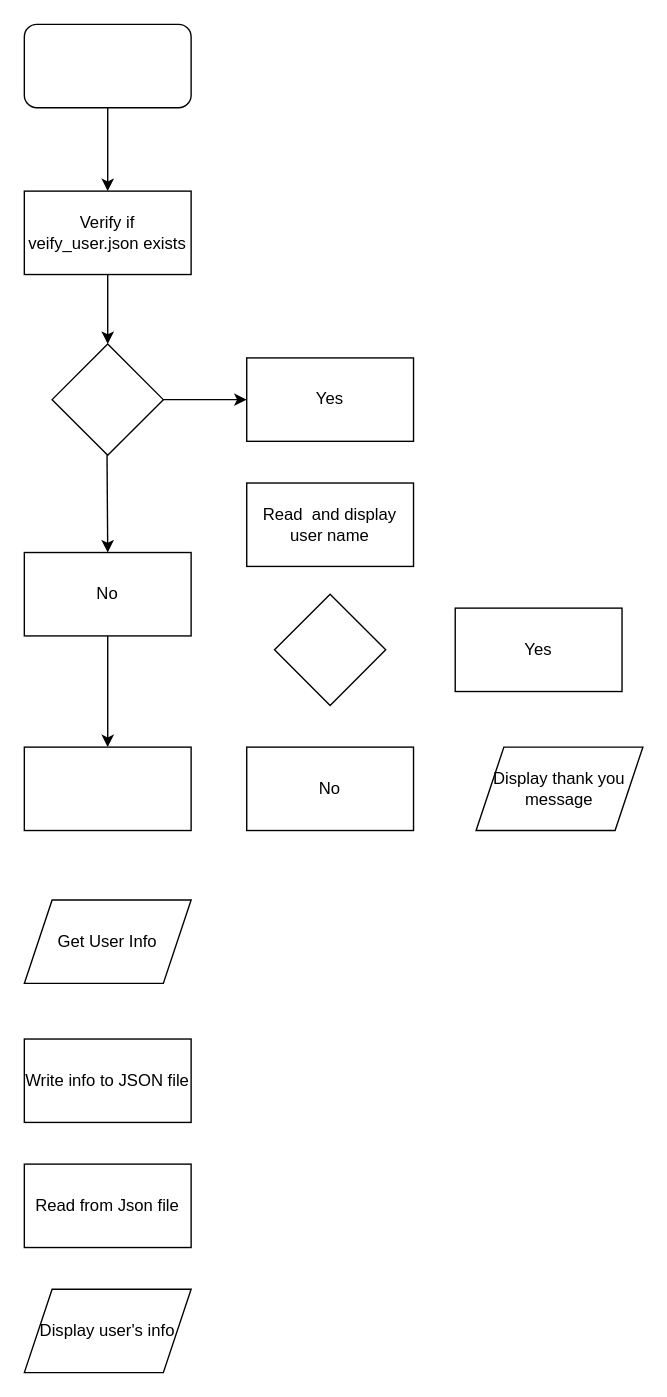
The diagram is 667 pixels wide and 1397 high, and some of its shapes have lost their labels. Here are the shapes that lost their labels. From the top down, the centre of each, then its label:
the point at 107,65: Run App
the point at 107,399: Does file exist
the point at 329,649: Ask if this is correct username
the point at 107,788: Greet User
